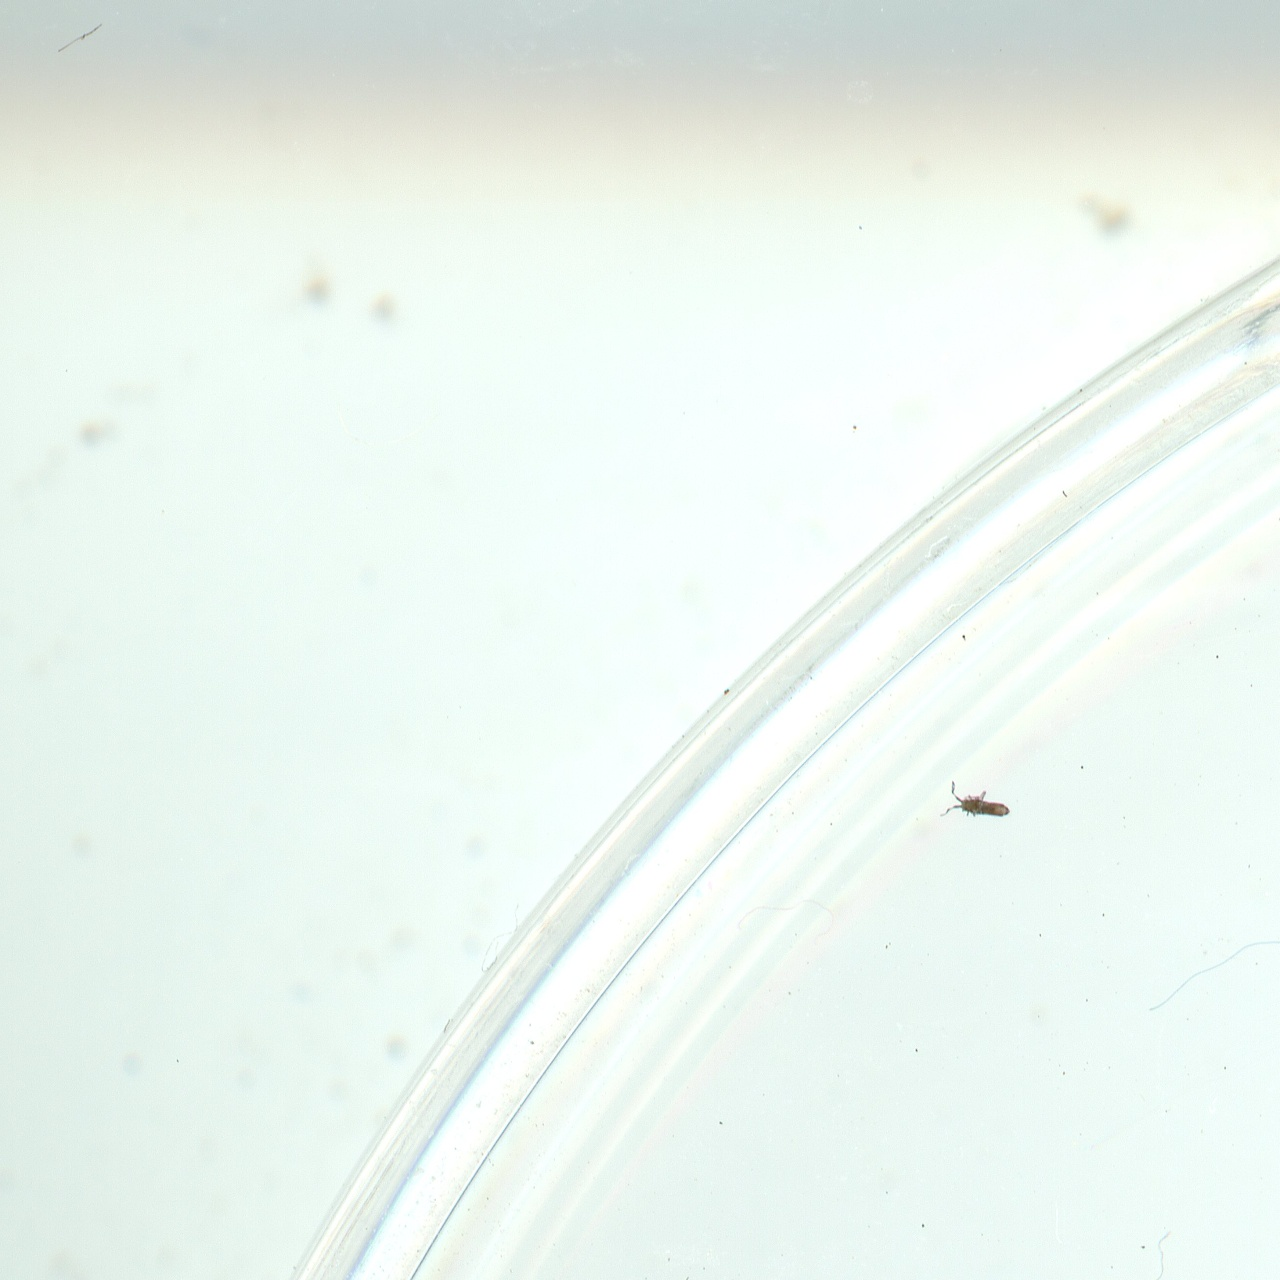arthropod: (935, 775, 1014, 831)
